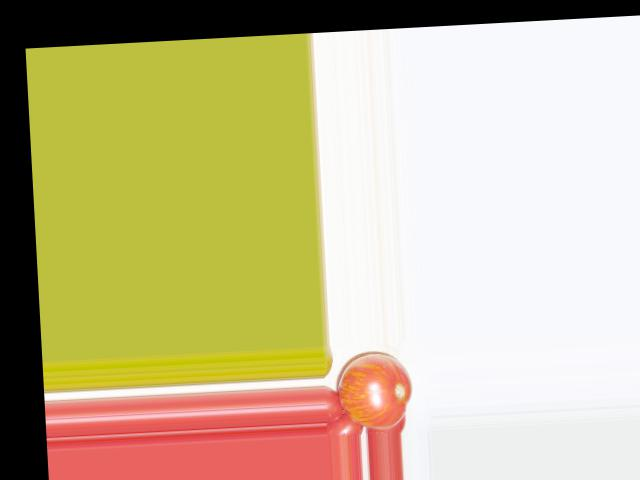tomato: (335, 351, 414, 431)
